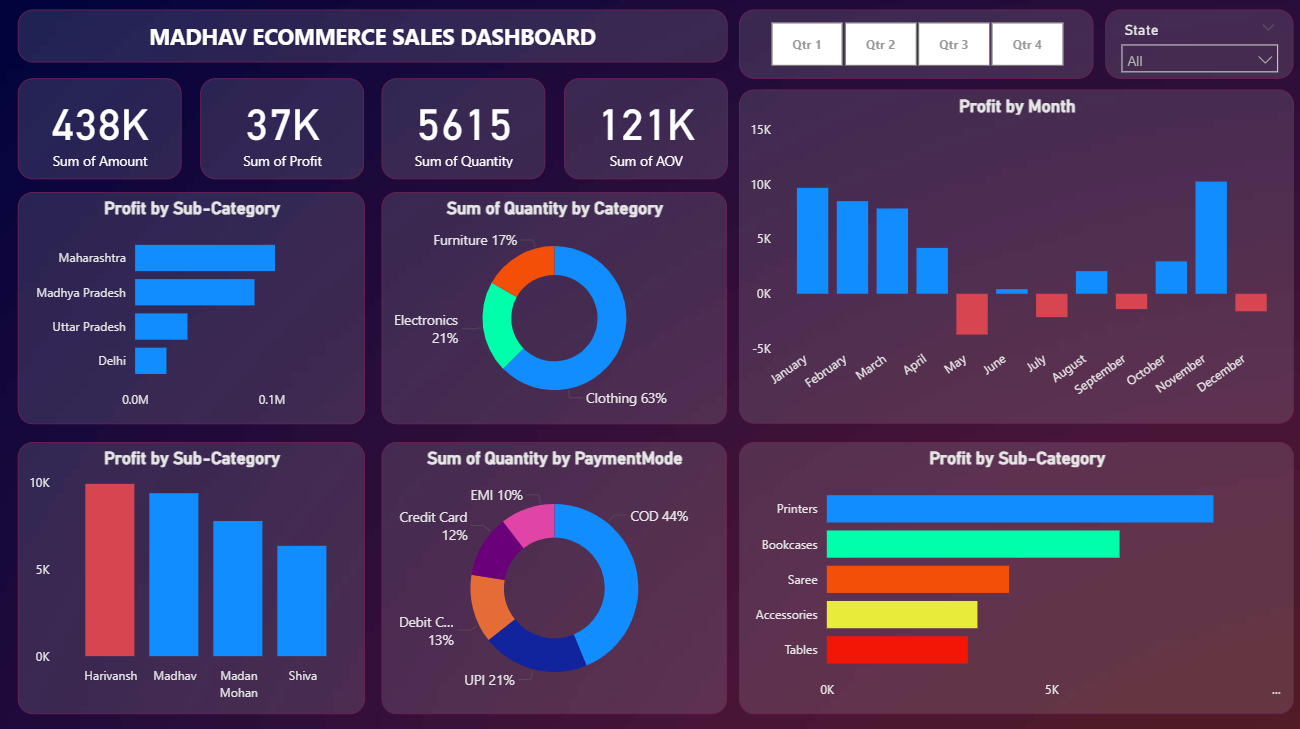

This screenshot's page, from the dashboard's own definition file:
{"tool":"powerbi","page":{"name":"Page 1","canvas":[1280,720],"ordinal":0},"visuals":[{"type":"textbox","box":[18,12,697,52],"z":0},{"type":"columnChart","title":"Profit by Month","fields":{"Category":["Orders.Order Date.Variation.Date Hierarchy.Month"],"Y":["Sum(Details.Profit)"]},"box":[726,91,545,328],"z":1000},{"type":"barChart","title":"Profit by Sub-Category","fields":{"Category":["Details.Sub-Category"],"Y":["Sum(Details.Profit)"]},"box":[726,437,545,267],"z":2000},{"type":"donutChart","fields":{"Category":["Details.Category"],"Y":["Sum(Details.Quantity)"]},"box":[376,191,339,228],"z":3000},{"type":"donutChart","fields":{"Category":["Details.PaymentMode"],"Y":["Sum(Details.Quantity)"]},"box":[376,437,339,267],"z":4000},{"type":"card","fields":{"Values":["Sum(Details.Amount)"]},"box":[18,80,161,99],"z":5000},{"type":"card","fields":{"Values":["Sum(Details.Profit)"]},"box":[198,80,161,99],"z":6000},{"type":"card","fields":{"Values":["Sum(Details.Quantity)"]},"box":[376,80,161,99],"z":7000},{"type":"card","fields":{"Values":["Sum(Details.AOV)"]},"box":[554,80,161,99],"z":8000},{"type":"barChart","title":"Profit by Sub-Category","fields":{"Category":["Orders.State"],"Y":["Sum(Details.Amount)"]},"box":[18,191,341,228],"z":9000},{"type":"columnChart","title":"Profit by Sub-Category","fields":{"Category":["Orders.CustomerName"],"Y":["Sum(Details.Amount)"]},"box":[18,437,341,267],"z":10000},{"type":"slicer","fields":{"Values":["Orders.Order Date.Variation.Date Hierarchy.Quarter"]},"box":[726,12,348,68],"z":11000},{"type":"slicer","fields":{"Values":["Orders.State"]},"box":[1086,12,185,68],"z":12000}]}

Visuals, with their boxes in screenshot pixels (x1, y1, x2, y2), scaled from the page's 1280x720 canvas onto the 1300x729 screenshot:
textbox: pyautogui.locateOnScreen(18, 12, 726, 65)
"Profit by Month" columnChart: pyautogui.locateOnScreen(737, 92, 1291, 424)
"Profit by Sub-Category" barChart: pyautogui.locateOnScreen(737, 442, 1291, 713)
donutChart - Details.Category x Sum(Details.Quantity): pyautogui.locateOnScreen(382, 193, 726, 424)
donutChart - Details.PaymentMode x Sum(Details.Quantity): pyautogui.locateOnScreen(382, 442, 726, 713)
card - Sum(Details.Amount): pyautogui.locateOnScreen(18, 81, 182, 181)
card - Sum(Details.Profit): pyautogui.locateOnScreen(201, 81, 365, 181)
card - Sum(Details.Quantity): pyautogui.locateOnScreen(382, 81, 545, 181)
card - Sum(Details.AOV): pyautogui.locateOnScreen(563, 81, 726, 181)
"Profit by Sub-Category" barChart: pyautogui.locateOnScreen(18, 193, 365, 424)
"Profit by Sub-Category" columnChart: pyautogui.locateOnScreen(18, 442, 365, 713)
slicer - Orders.Order Date.Variation.Date Hierarchy.Quarter: pyautogui.locateOnScreen(737, 12, 1091, 81)
slicer - Orders.State: pyautogui.locateOnScreen(1103, 12, 1291, 81)
